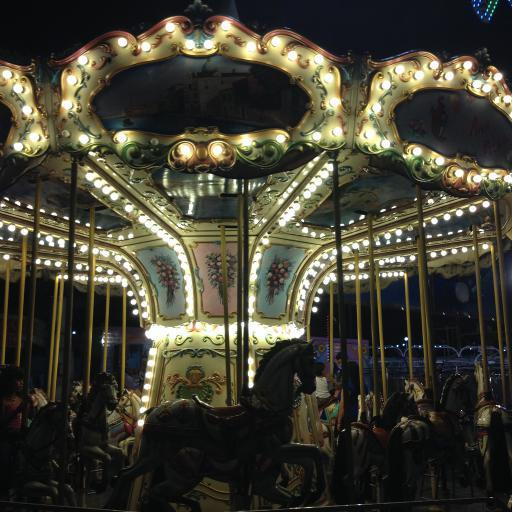Horse: (131, 345, 340, 502), (383, 368, 485, 506), (342, 389, 426, 499), (0, 401, 77, 506), (72, 370, 124, 494), (470, 355, 512, 483), (116, 390, 144, 450), (21, 386, 52, 410), (62, 382, 96, 398)
